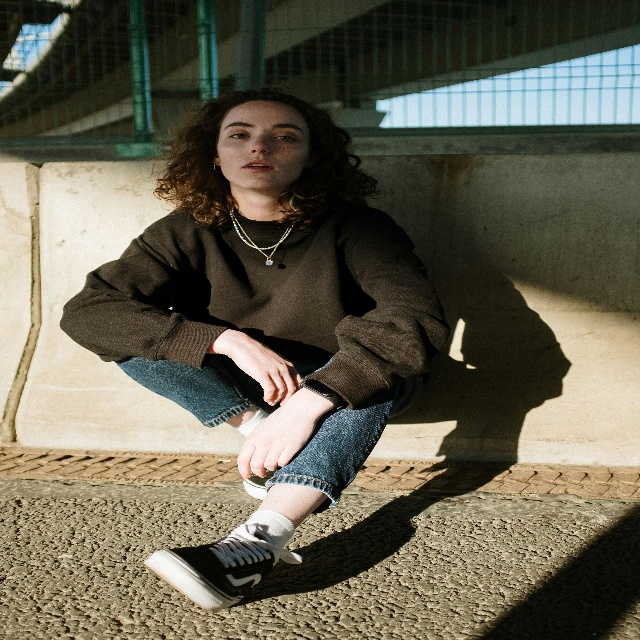Sin_guantes: (236, 387, 317, 480), (226, 330, 303, 407)
